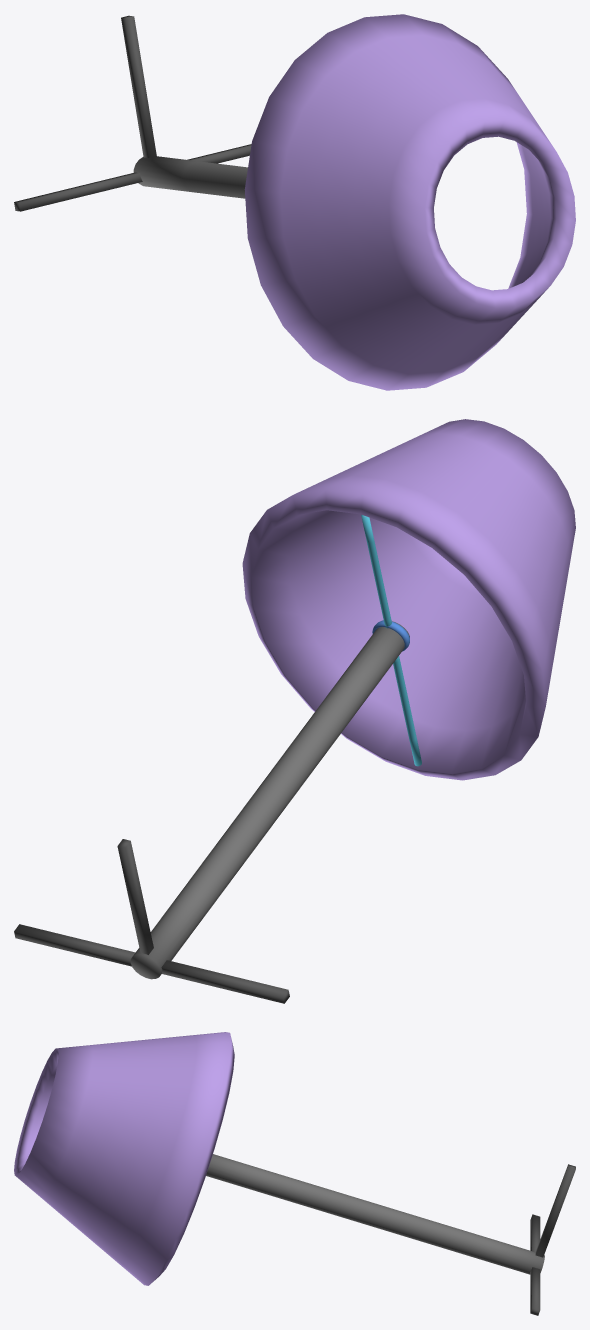
File: fallenlamp.obj
3 renders of one model, top to bottom at view 1: azimuth 30°, elevation 25°; view 2: azimuth 150°, elevation 25°; view 3: azimuth 270°, elevation 25°, orthographic. The views are drawn at different scales.
Parts seen in each view (by area): view 1: Cone001, Cylinder001, Box003, Box004, Box002; view 2: Cone001, Cylinder001, Box004, Box002, Box003, Cylinder003, Cylinder002; view 3: Cone001, Cylinder001, Box003, Box002.
Part boxes in pixels (left/top/right/bottom): Cone001: left=244, top=14, right=575, bottom=390; Cylinder001: left=133, top=156, right=247, bottom=198; Box003: left=121, top=15, right=156, bottom=157; Box004: left=14, top=172, right=142, bottom=211; Box002: left=187, top=144, right=251, bottom=163; Cone001: left=242, top=419, right=575, bottom=780; Cylinder001: left=130, top=621, right=409, bottom=979; Box004: left=161, top=960, right=289, bottom=1003; Box002: left=14, top=924, right=135, bottom=966; Box003: left=117, top=839, right=153, bottom=954; Cylinder003: left=361, top=514, right=391, bottom=628; Cylinder002: left=393, top=656, right=421, bottom=766; Cone001: left=14, top=1032, right=234, bottom=1285; Cylinder001: left=206, top=1154, right=544, bottom=1274; Box003: left=535, top=1164, right=575, bottom=1257; Box002: left=530, top=1267, right=540, bottom=1315.
Size of the model in its own units: 31.47 by 33.1 by 72.2.
